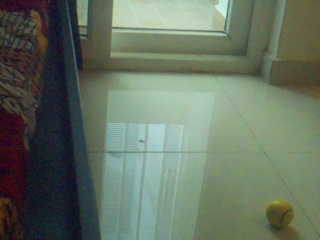ball: (266, 199, 293, 227)
